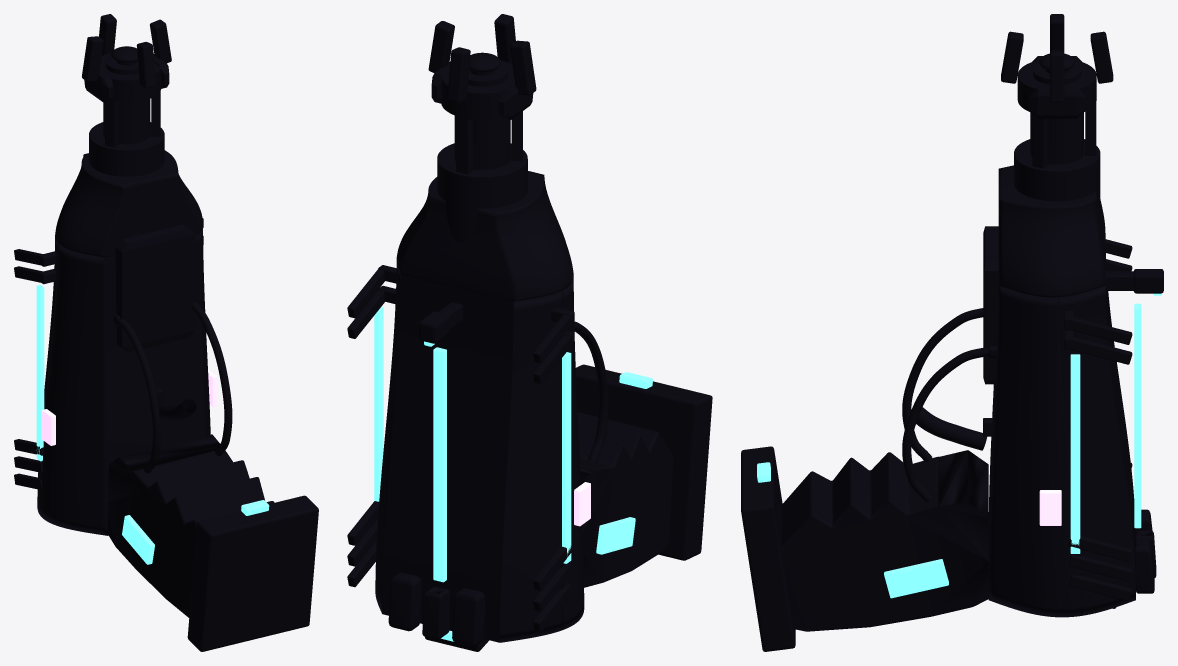
The model's file is CyberPulsePistolView.fbx.
3 renders of one model, left to right at view 1: azimuth 30°, elevation 25°; view 2: azimuth 150°, elevation 25°; view 3: azimuth 270°, elevation 25°, orthographic. The views are drawn at different scales.
Visible parts, largest first — view 1: CPP_main angular receiver, CPP_magazine base plate, CPP_integrated contoured grip body, CPP_front squared compensator, CPP_underbarrel accessory rail, CPP_muzzle crown prongs, CPP_black outer barrel sleeve, CPP_cyan slide energy strips, CPP_right trigger guard, CPP_inner cyan energy barrel, CPP_left trigger guard, CPP_muzzle gray outer metal collar (+9 smaller); view 2: CPP_upper black slide, CPP_front squared compensator, CPP_integrated contoured grip body, CPP_magazine base plate, CPP_black outer barrel sleeve, CPP_muzzle crown prongs, CPP_rear slide serrations, CPP_cyan slide energy strips, CPP_cyan top spine energy strip, CPP_main angular receiver, CPP_front slide serrations, CPP_inner cyan energy barrel (+13 smaller); view 3: CPP_integrated contoured grip body, CPP_main angular receiver, CPP_upper black slide, CPP_front squared compensator, CPP_magazine base plate, CPP_black outer barrel sleeve, CPP_muzzle crown prongs, CPP_rear slide serrations, CPP_front slide serrations, CPP_underbarrel accessory rail, CPP_cyan slide energy strips, CPP_left trigger guard (+11 smaller).
Part boxes in pixels (x1,y1,x2,y2): CPP_main angular receiver: (38, 220, 210, 535); CPP_magazine base plate: (187, 495, 318, 651); CPP_integrated contoured grip body: (107, 434, 274, 617); CPP_front squared compensator: (55, 150, 202, 257); CPP_underbarrel accessory rail: (115, 224, 195, 352); CPP_muzzle crown prongs: (82, 14, 171, 88); CPP_black outer barrel sleeve: (89, 122, 164, 176); CPP_cyan slide energy strips: (36, 284, 44, 461); CPP_right trigger guard: (117, 314, 160, 473); CPP_inner cyan energy barrel: (103, 99, 150, 144); CPP_left trigger guard: (191, 301, 232, 455); CPP_muzzle gray outer metal collar: (100, 53, 161, 102); CPP_upper black slide: (375, 257, 562, 642); CPP_front squared compensator: (396, 171, 573, 301); CPP_integrated contoured grip body: (577, 412, 673, 587); CPP_magazine base plate: (575, 364, 712, 560); CPP_black outer barrel sleeve: (437, 143, 527, 243); CPP_muzzle crown prongs: (428, 14, 536, 103); CPP_rear slide serrations: (347, 501, 572, 632); CPP_cyan slide energy strips: (374, 306, 571, 563); CPP_cyan top spine energy strip: (433, 347, 446, 582); CPP_main angular receiver: (561, 277, 584, 630); CPP_front slide serrations: (347, 269, 572, 384); CPP_inner cyan energy barrel: (454, 115, 510, 169); CPP_integrated contoured grip body: (781, 450, 988, 631); CPP_main angular receiver: (988, 285, 1082, 617); CPP_upper black slide: (1059, 233, 1135, 615); CPP_front squared compensator: (998, 165, 1105, 299); CPP_magazine base plate: (741, 446, 795, 651); CPP_black outer barrel sleeve: (1014, 139, 1100, 218); CPP_muzzle crown prongs: (1001, 14, 1113, 102); CPP_rear slide serrations: (1068, 463, 1132, 601); CPP_front slide serrations: (1069, 239, 1132, 364); CPP_underbarrel accessory rail: (983, 226, 998, 384); CPP_cyan slide energy strips: (1070, 354, 1080, 553); CPP_left trigger guard: (902, 347, 989, 502).
Size of the model in its own units: 27.7 by 81.71 by 53.19.
